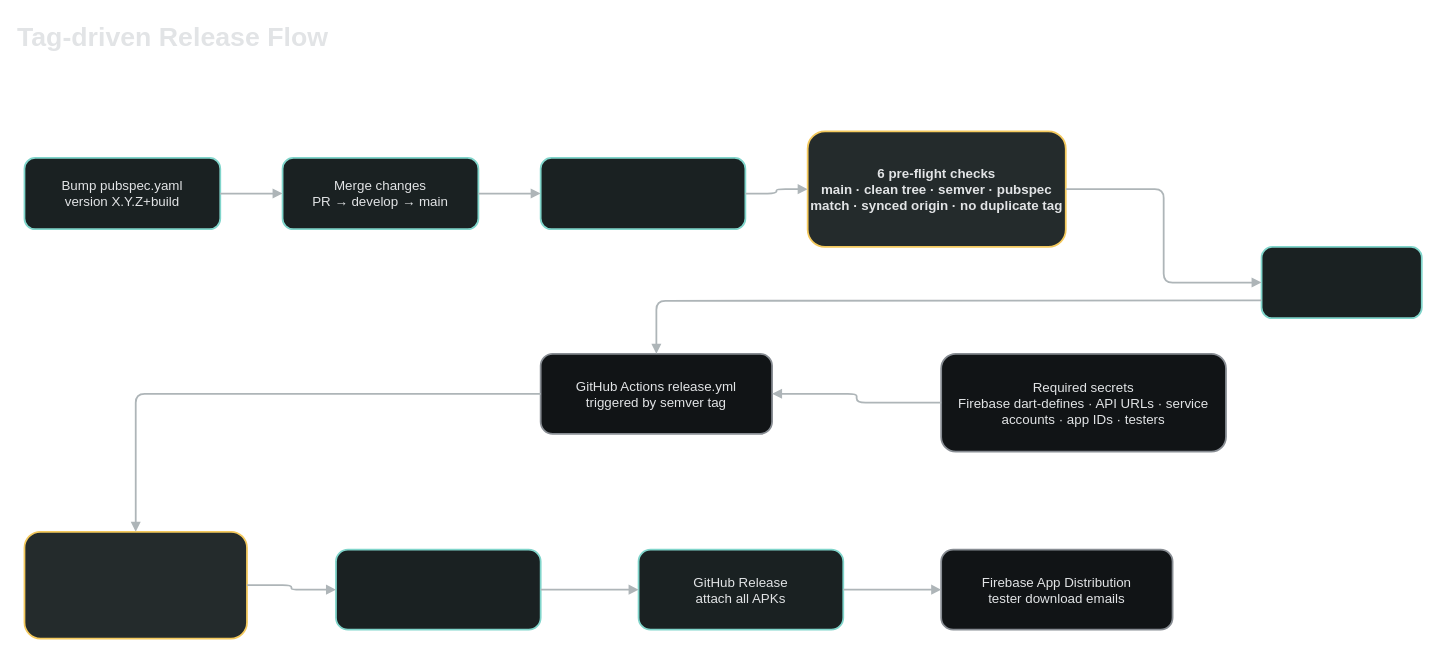
This 1437x654 diagram has some shape labels left out. Each missing label, with the centre of its shape:
Build APKs DEV · STAGING · PRO: the point at 438,589
Push tag vX.Y.Z: the point at 1341,282
Quality gates fvm flutter analyze fvm flutter test tag/pubspec validation: the point at 135,584
Run release script release.sh / release.ps1: the point at 642,193
